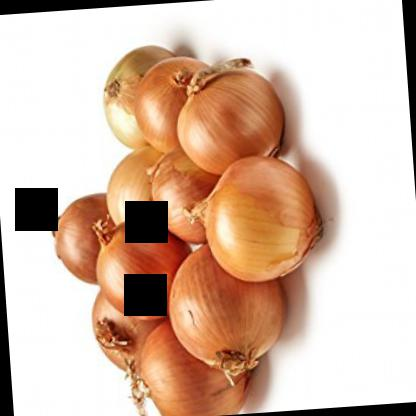onion: (180, 152, 328, 283), (164, 240, 294, 376), (127, 311, 258, 415), (174, 63, 294, 175), (88, 213, 193, 325), (98, 42, 189, 150), (129, 50, 223, 152), (91, 282, 176, 381), (146, 144, 222, 250), (51, 190, 119, 288)
